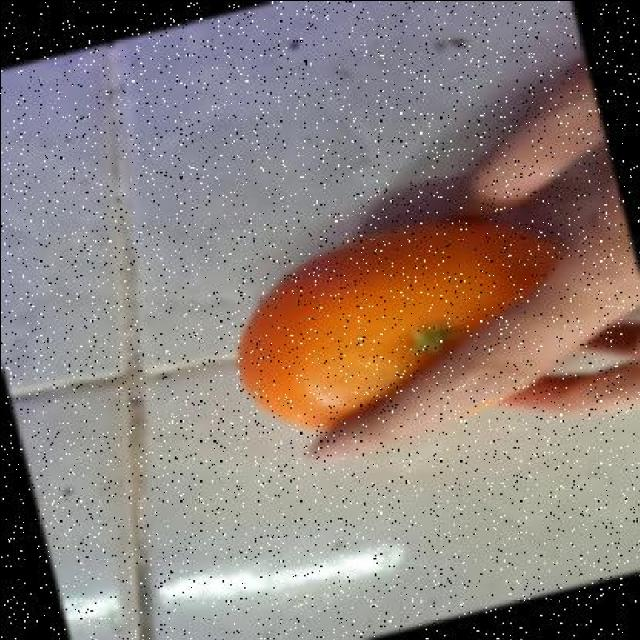Orange: (237, 216, 563, 438)
